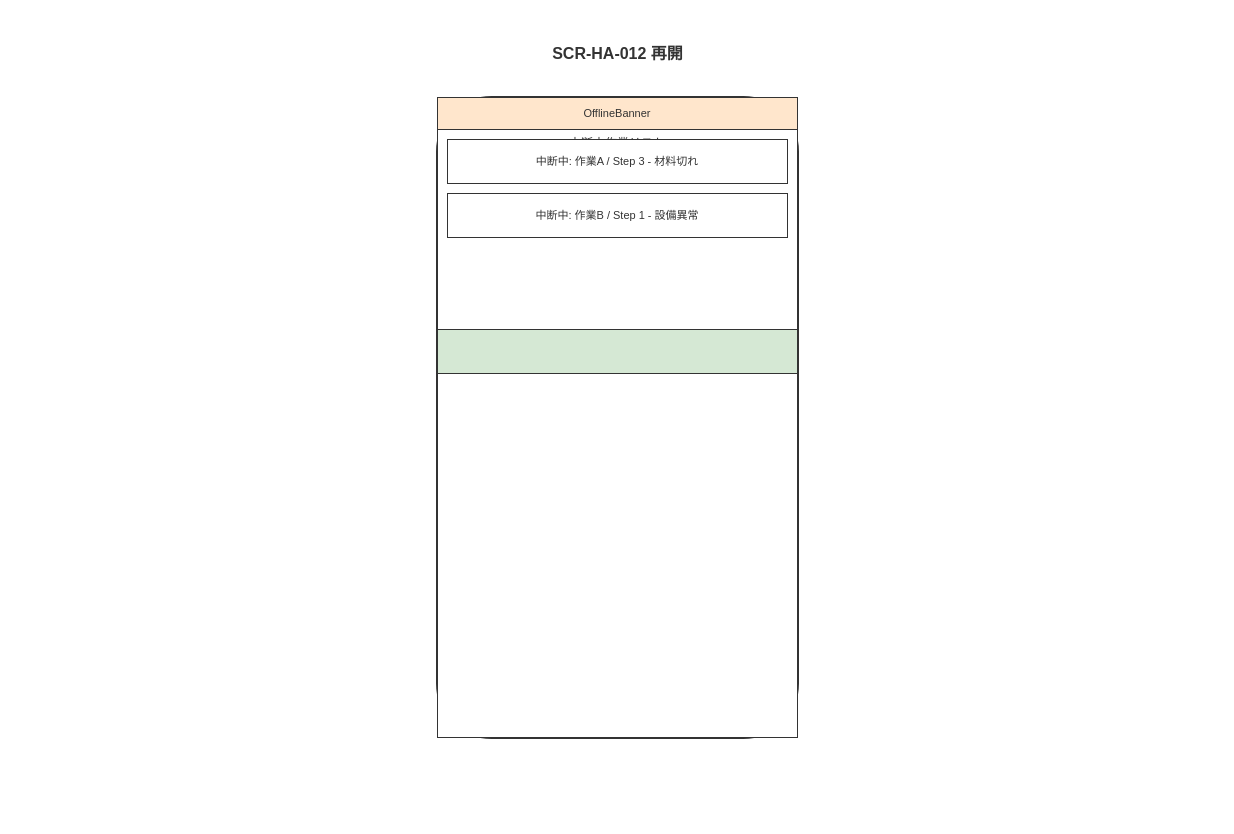
This 1234x834 diagram has some shape labels left out. The centre of each missing label's shape, as x and y in pixels:
"再開ボタン (44dp)" goes at pixel 617 351.
"本人認証 (PIN) 再開前に PIN 入力が必要です" goes at pixel 617 555.
